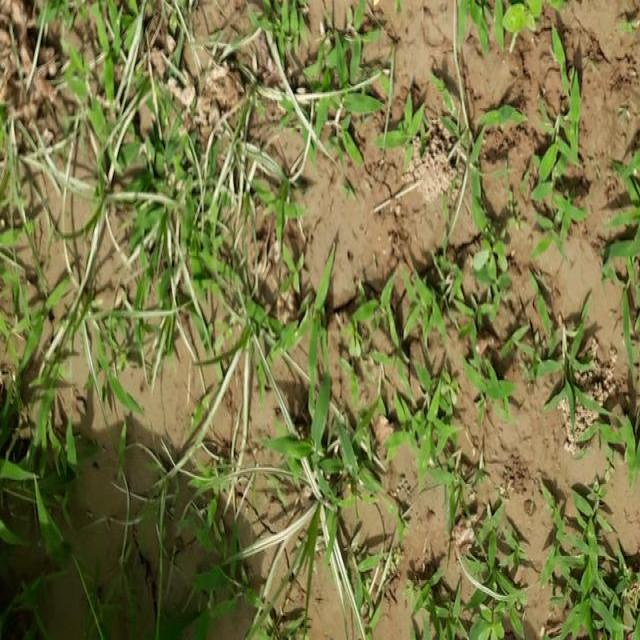weed: (38, 7, 258, 414), (286, 275, 522, 640), (535, 296, 640, 640), (423, 48, 601, 249), (256, 0, 376, 209)
